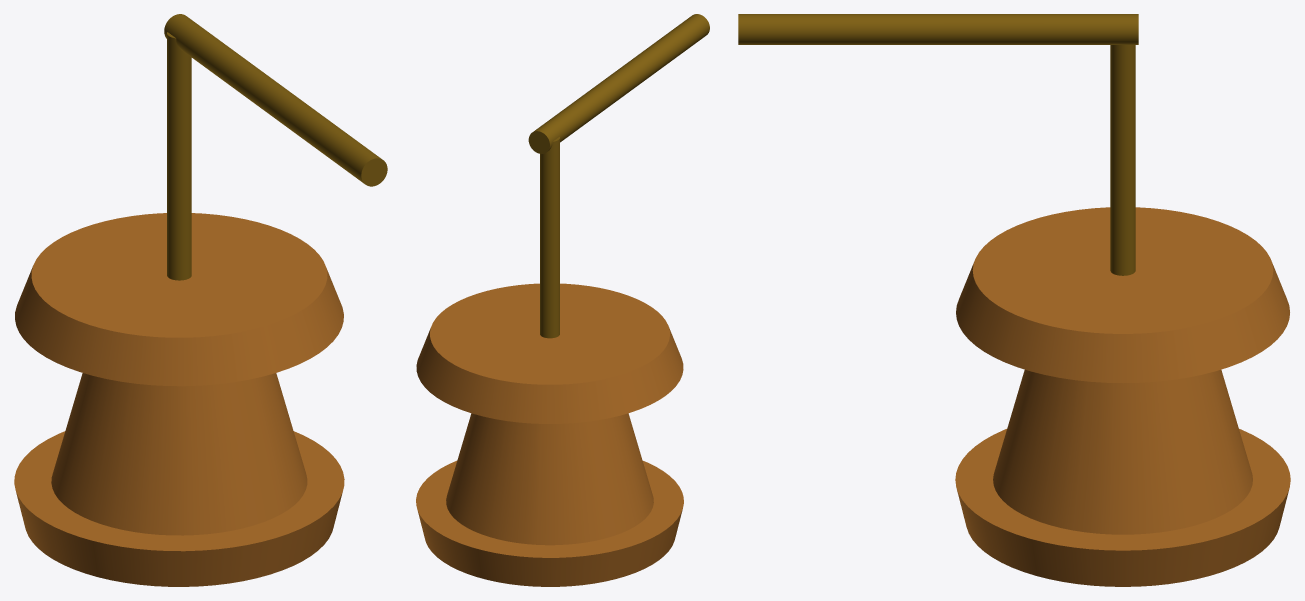
3 views of the same model, side by side, from view 1: azimuth 30°, elevation 25°; view 2: azimuth 150°, elevation 25°; view 3: azimuth 270°, elevation 25° (orthographic). The views are drawn at different scales.
Visible parts, largest first — view 1: upper_disc, waist, lower_disc, bar, post; view 2: upper_disc, waist, lower_disc, bar, post; view 3: upper_disc, waist, lower_disc, bar, post.
Part boxes in pixels (bbox=[...]): upper_disc: bbox=[15, 213, 343, 386]; waist: bbox=[51, 373, 307, 535]; lower_disc: bbox=[14, 431, 344, 586]; bar: bbox=[164, 14, 387, 186]; post: bbox=[167, 32, 191, 280]; upper_disc: bbox=[416, 283, 683, 423]; waist: bbox=[446, 413, 653, 545]; lower_disc: bbox=[416, 460, 683, 586]; bar: bbox=[528, 14, 709, 153]; post: bbox=[540, 137, 559, 338]; upper_disc: bbox=[956, 207, 1289, 383]; waist: bbox=[993, 369, 1252, 534]; lower_disc: bbox=[955, 429, 1290, 586]; bar: bbox=[738, 14, 1138, 44]; post: bbox=[1110, 45, 1135, 275].
Bounding box in the file's own units: 0.2388 × 0.399 × 0.3934.
